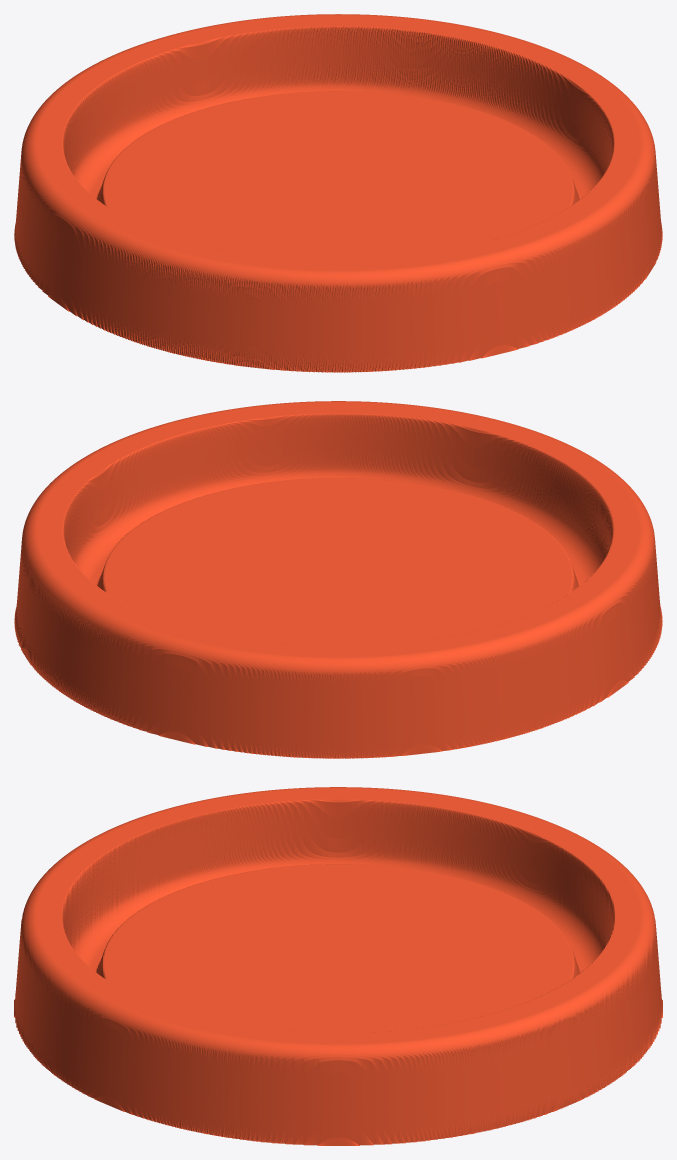
The model's file is mold.glb.
3 renders of one model, top to bottom at view 1: azimuth 30°, elevation 25°; view 2: azimuth 150°, elevation 25°; view 3: azimuth 270°, elevation 25°, orthographic.
Parts seen in each view (by area): view 1: geometry_0; view 2: geometry_0; view 3: geometry_0.
Boxes of the visible parts, box(x1,y1,x2,y2) form: geometry_0: box(14, 14, 662, 372); geometry_0: box(14, 401, 662, 758); geometry_0: box(14, 787, 662, 1145).
Size of the model in its own units: 0.105 by 0.0165 by 0.105.
